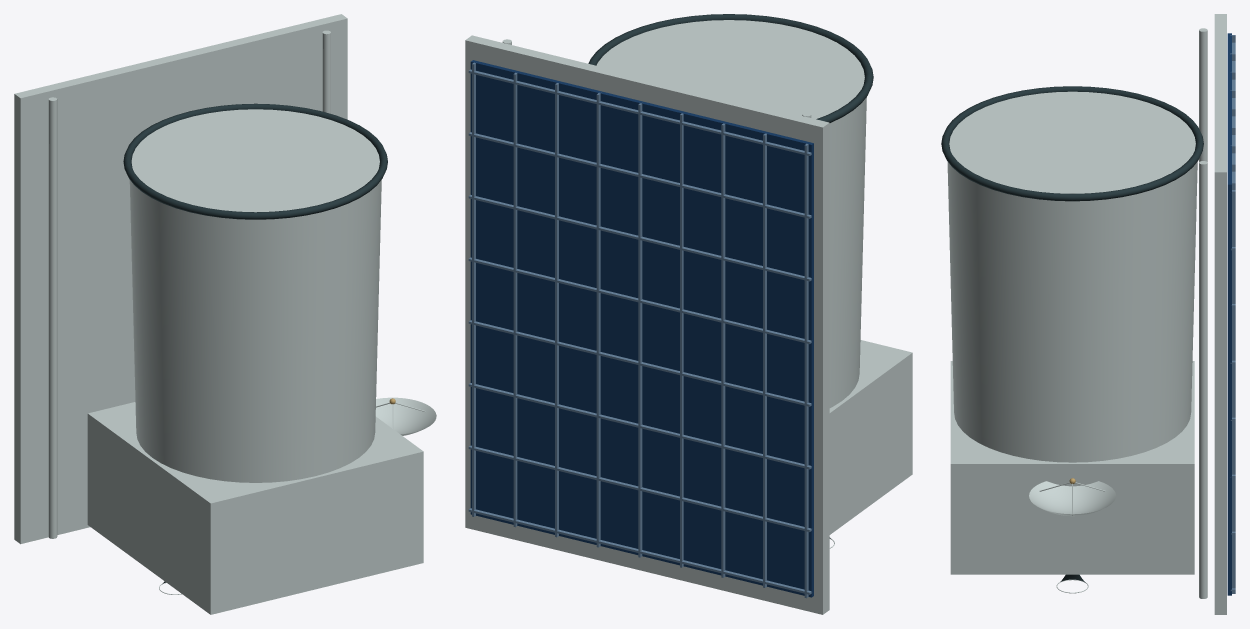
Rendered from euclid.glb.
3 views of the same model, side by side, from view 1: azimuth 30°, elevation 25°; view 2: azimuth 150°, elevation 25°; view 3: azimuth 270°, elevation 25° (orthographic). The views are drawn at different scales.
Parts seen in each view (by area): view 1: body, heatshield, antenna; view 2: solar, body, heatshield; view 3: body, heatshield, solar, antenna.
Part boxes in pixels (x1,y1,x2,y2): body: [87, 103, 423, 614]; heatshield: [14, 14, 347, 544]; antenna: [375, 397, 436, 435]; solar: [468, 60, 813, 598]; body: [588, 14, 912, 534]; heatshield: [465, 35, 829, 614]; body: [941, 86, 1203, 574]; heatshield: [1199, 14, 1226, 614]; solar: [1227, 33, 1235, 595]; antenna: [1029, 478, 1116, 516].
Bounding box in the file's own units: 2.23 × 2.87 × 1.69.
